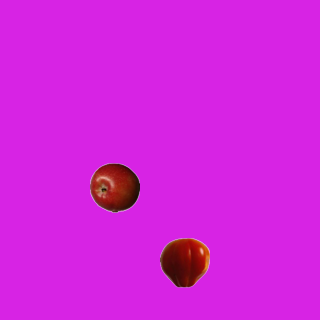Apple Braeburn: (89, 162, 139, 212)
Tomato 1: (159, 237, 209, 287)
